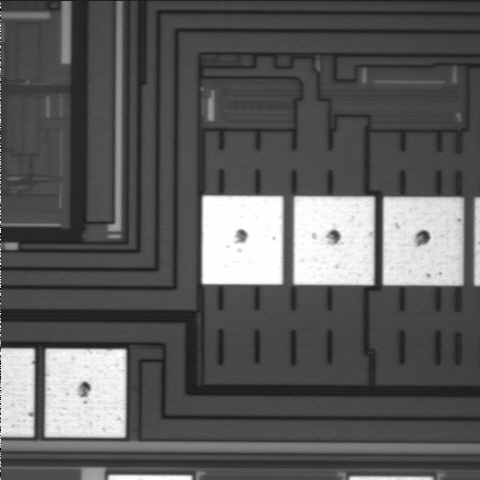pad: (202, 196, 283, 285), (293, 196, 374, 285), (45, 349, 126, 438), (383, 197, 463, 285)
